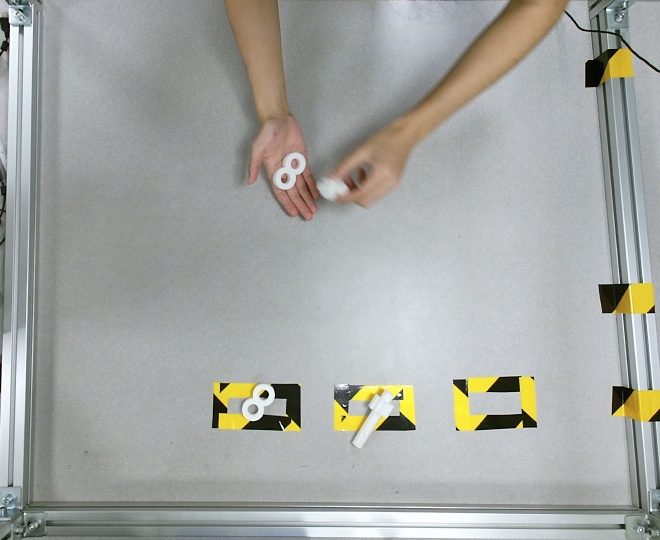stage_1: (271, 152, 306, 189)
